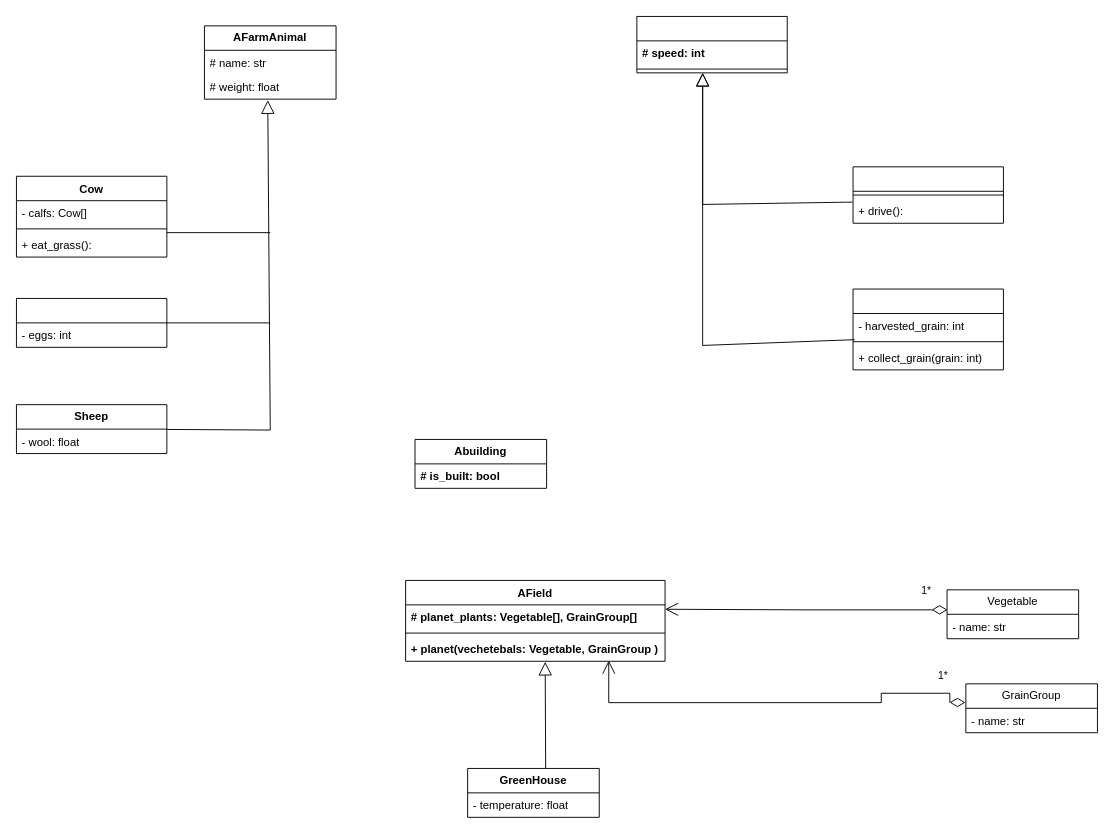
Image size: 1114x837. Some labels were removed from this diagram. Each missing label, with the box of its shape:
AFarmEquipment: (636, 16, 787, 73)
Chicken: (16, 298, 167, 347)
Harvester: (852, 288, 1003, 370)
Tractor: (852, 166, 1003, 223)
